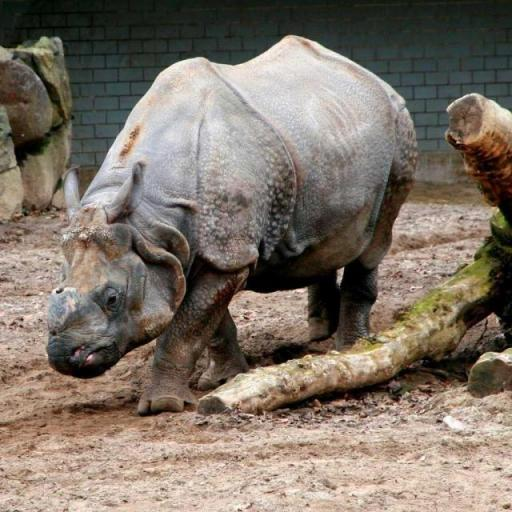Rhino: (45, 33, 419, 416)
